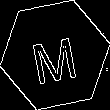M_N: (29, 26, 81, 84)
